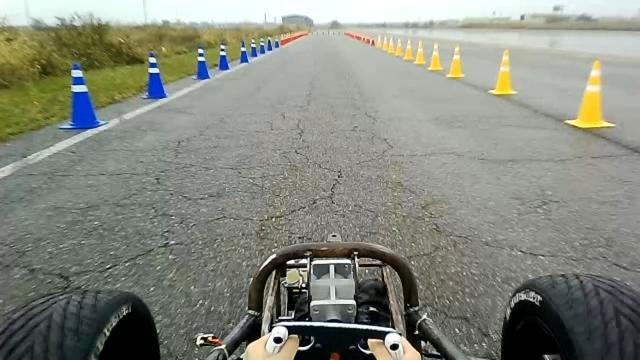blue cone: (58, 61, 108, 130), (141, 50, 168, 99), (192, 45, 211, 80), (217, 43, 230, 71), (239, 40, 250, 63), (250, 38, 258, 57), (259, 38, 266, 54), (266, 38, 272, 52), (274, 37, 280, 48)
yellow cone: (564, 59, 616, 129), (579, 59, 603, 121), (488, 49, 518, 96), (446, 45, 465, 78), (428, 42, 442, 70), (413, 39, 426, 65), (403, 38, 414, 61), (386, 36, 396, 55), (395, 38, 403, 57), (375, 34, 382, 49), (382, 36, 389, 51)
